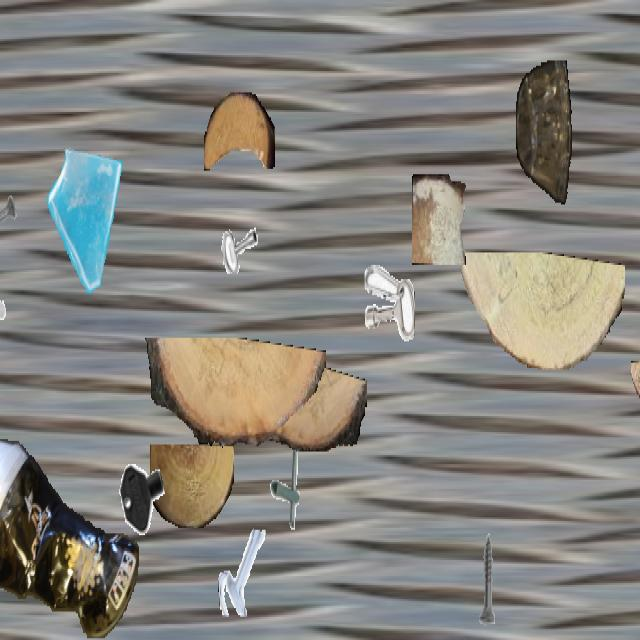glass: (45, 137, 135, 297)
metal: (460, 530, 514, 626), (208, 176, 262, 272), (262, 439, 314, 532), (117, 446, 169, 539), (364, 262, 414, 351), (218, 528, 268, 617), (0, 176, 19, 258), (0, 266, 10, 348)
plastic: (0, 439, 138, 638), (516, 60, 572, 206)
wood: (142, 338, 326, 448), (454, 252, 624, 370), (222, 359, 366, 452), (150, 444, 234, 526), (204, 92, 274, 170), (412, 174, 466, 263), (631, 354, 640, 425)
